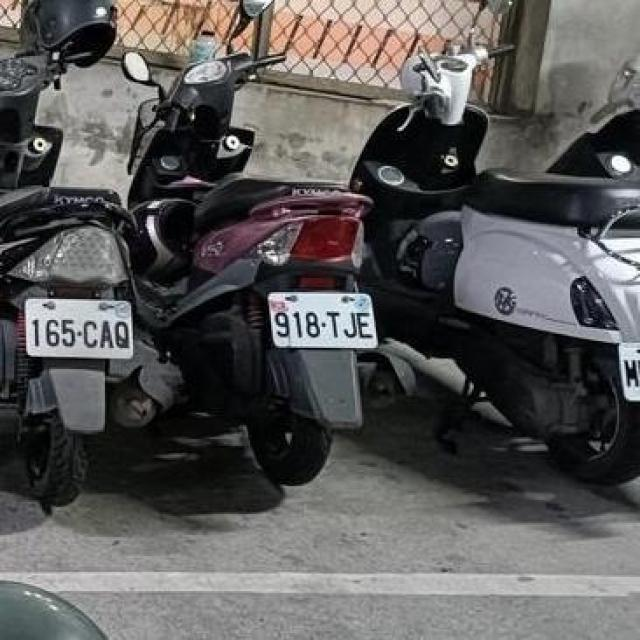W: (18, 288, 138, 364), (260, 280, 380, 355), (608, 327, 640, 405)
